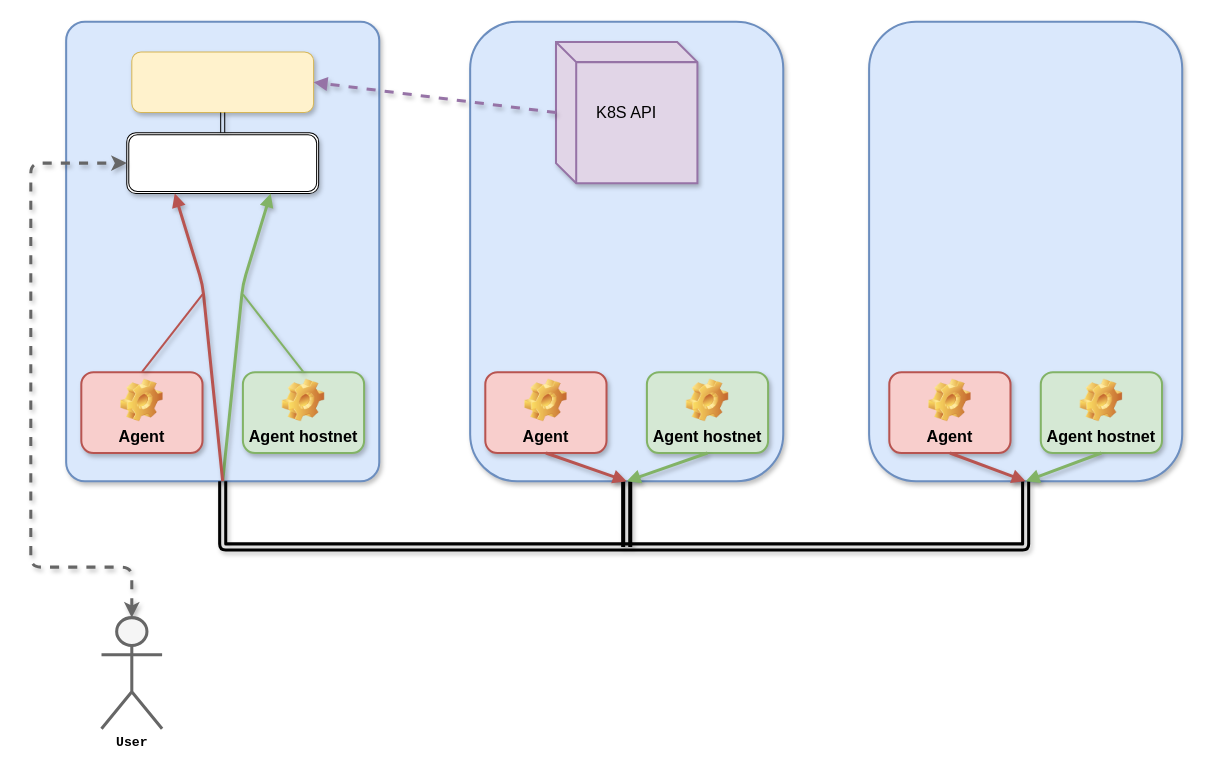
Image size: 1207x770. Some labels were removed from this diagram. Here are the shapes that lost their labels. From the top down, the centre of each, then its label:
(x=223, y=83): server pod
(x=223, y=164): Netcheck-server svc
